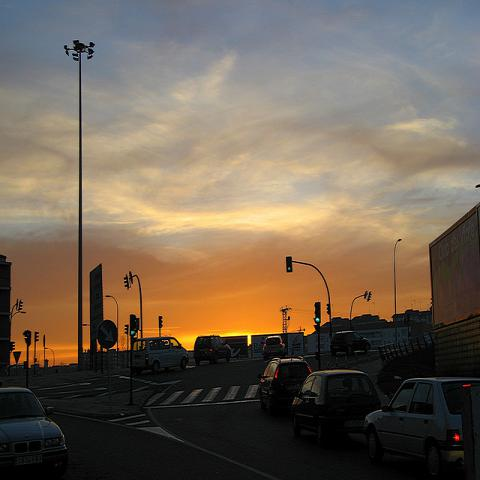car: (363, 376, 474, 470), (283, 368, 379, 451), (0, 387, 69, 474), (257, 355, 311, 413), (194, 335, 232, 366), (330, 331, 372, 355), (262, 334, 286, 362)
truck: (131, 331, 191, 373)
